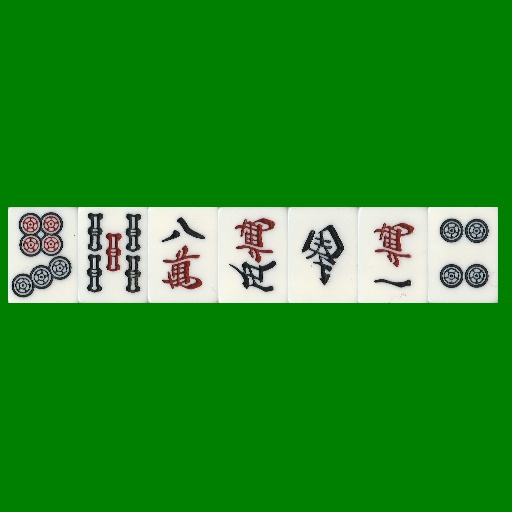1m: (358, 207, 428, 303)
4p: (428, 207, 498, 303)
5m: (218, 207, 288, 303)
5s: (78, 207, 148, 303)
7p: (8, 207, 78, 303)
8m: (148, 207, 218, 303)
south: (288, 207, 358, 303)
